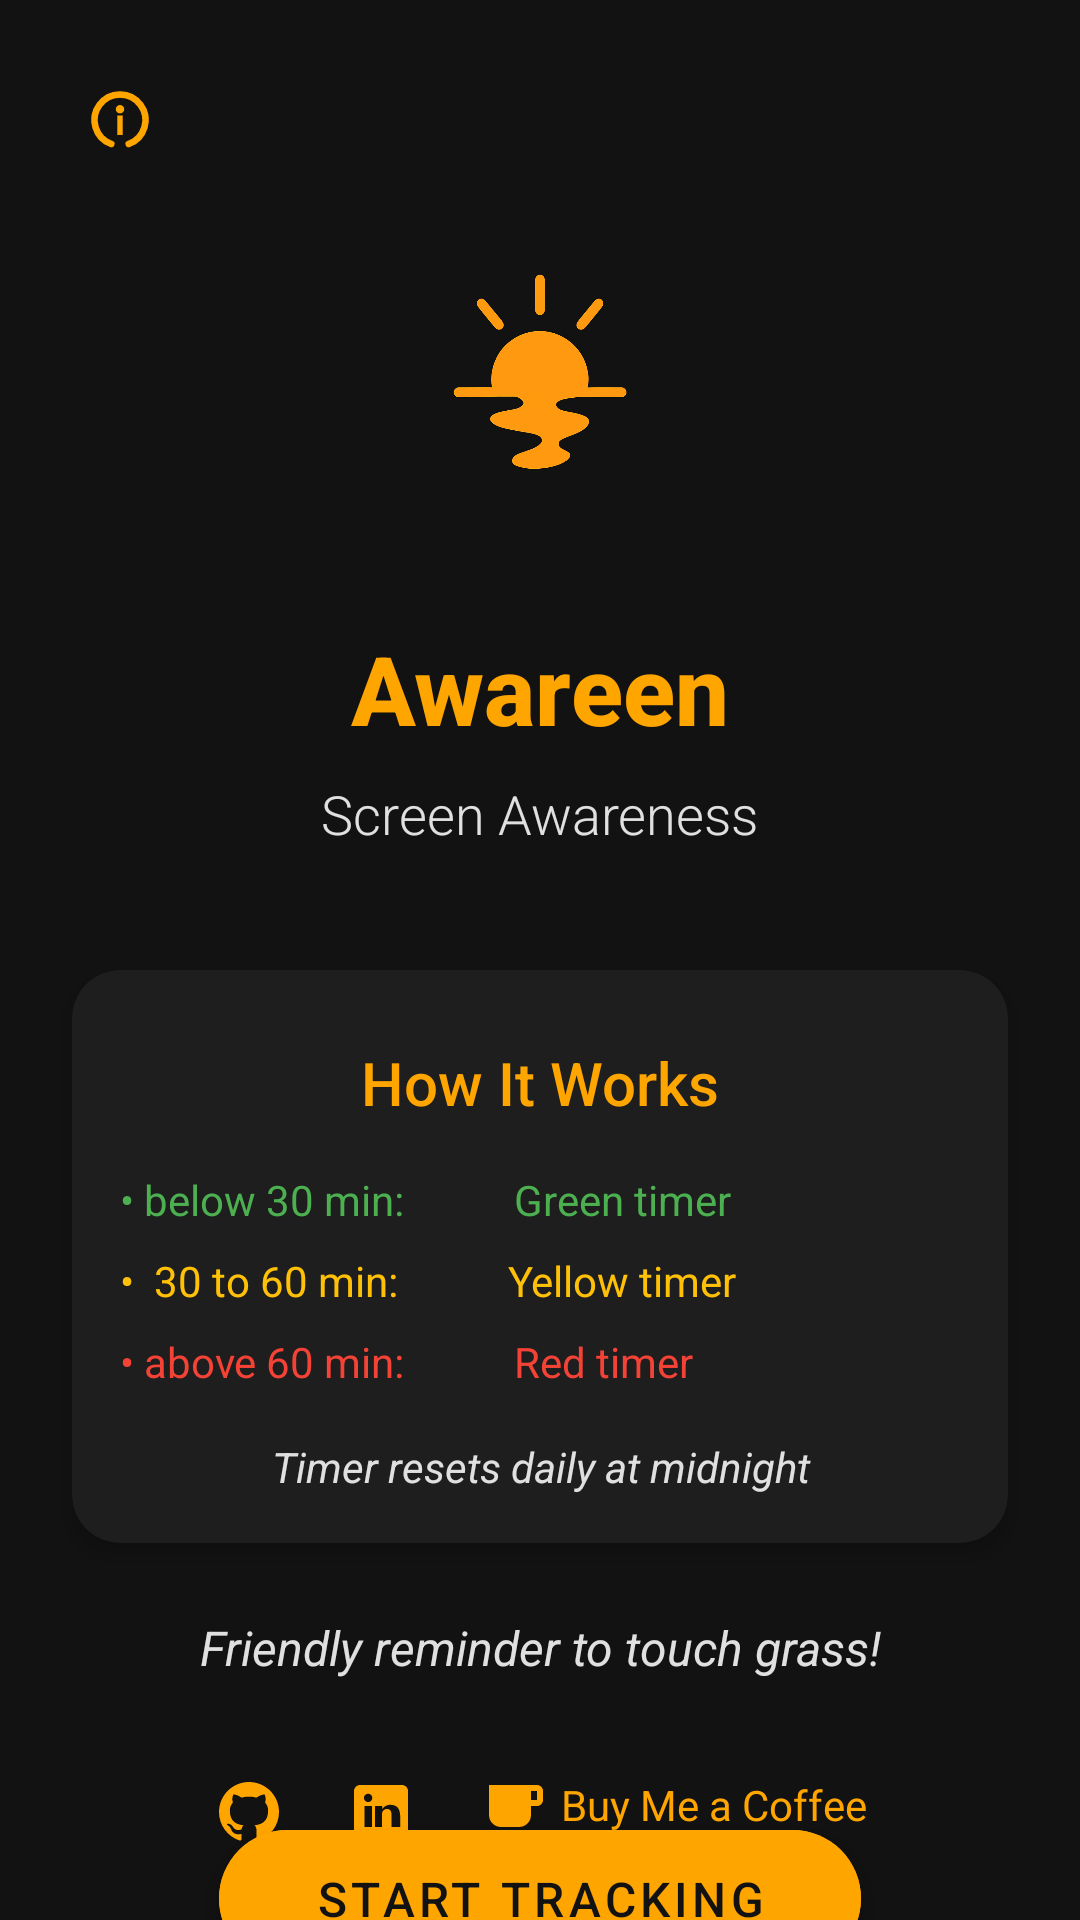

Where to tap for icons on this 1080×1920 app screen, as [x,y]:
Information: [120,119]
